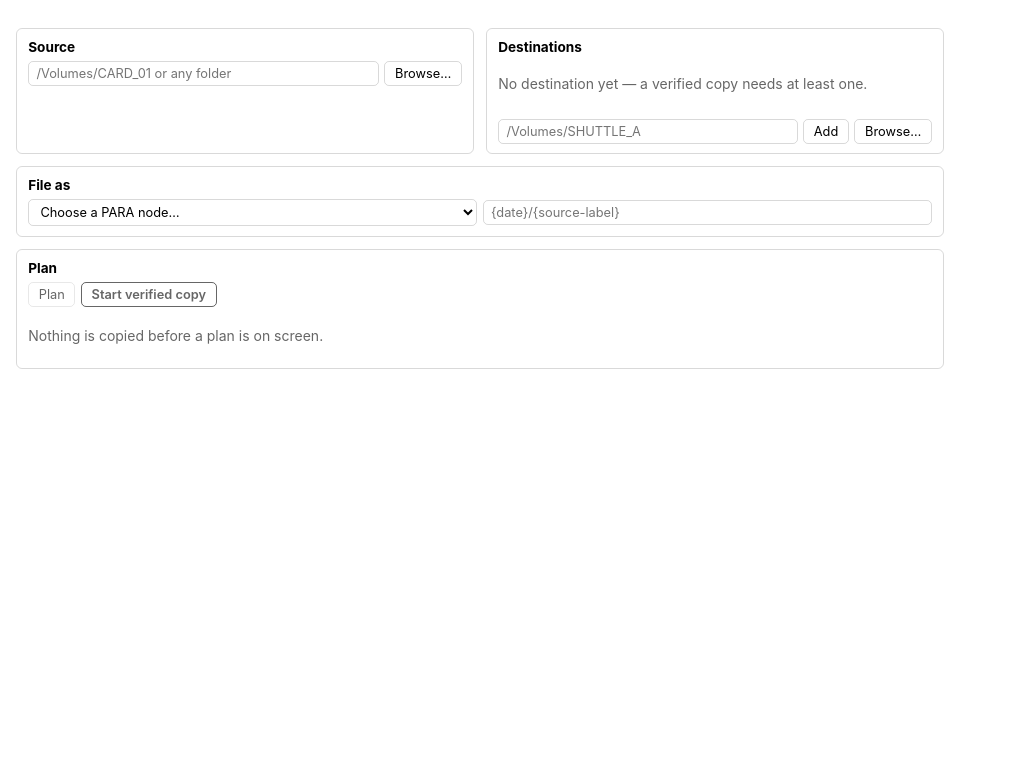
the completion card names the MHL generation, the failures and the rejects
Click the button with aria-label "Browse for source" at [423, 74], box [384,61,462,86]
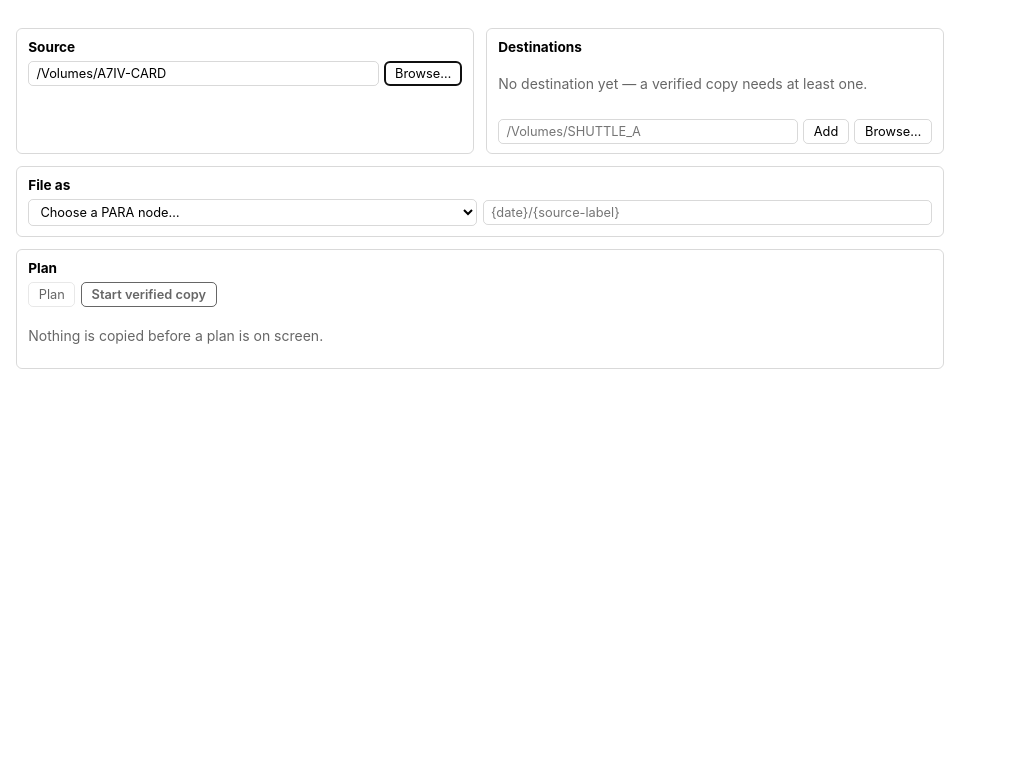
Now the field named "Source path" holds "/Volumes/A7IV-CARD", box [28,61,379,86]
Click the button with aria-label "Browse for destination" at [893, 131], box [854,119,932,144]
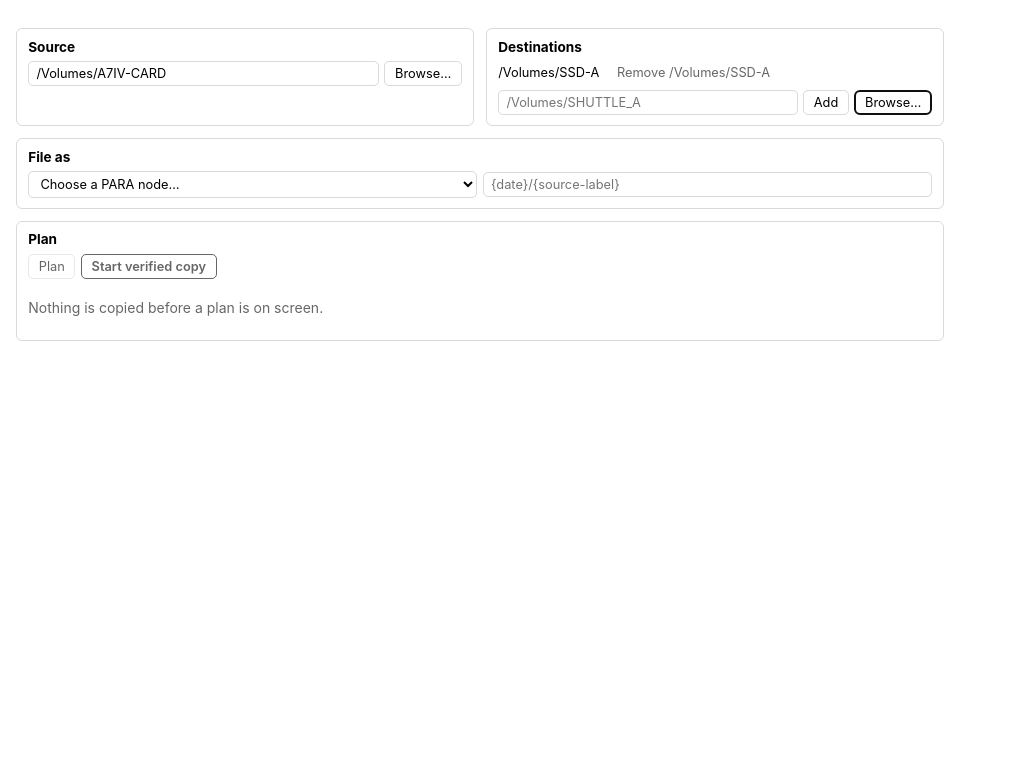
Now the text "/Volumes/SSD-A" is shown, box [498,65,599,80]
Select "project/client-x" in the dropdown named "PARA node" at [253, 184], box [28,171,477,198]
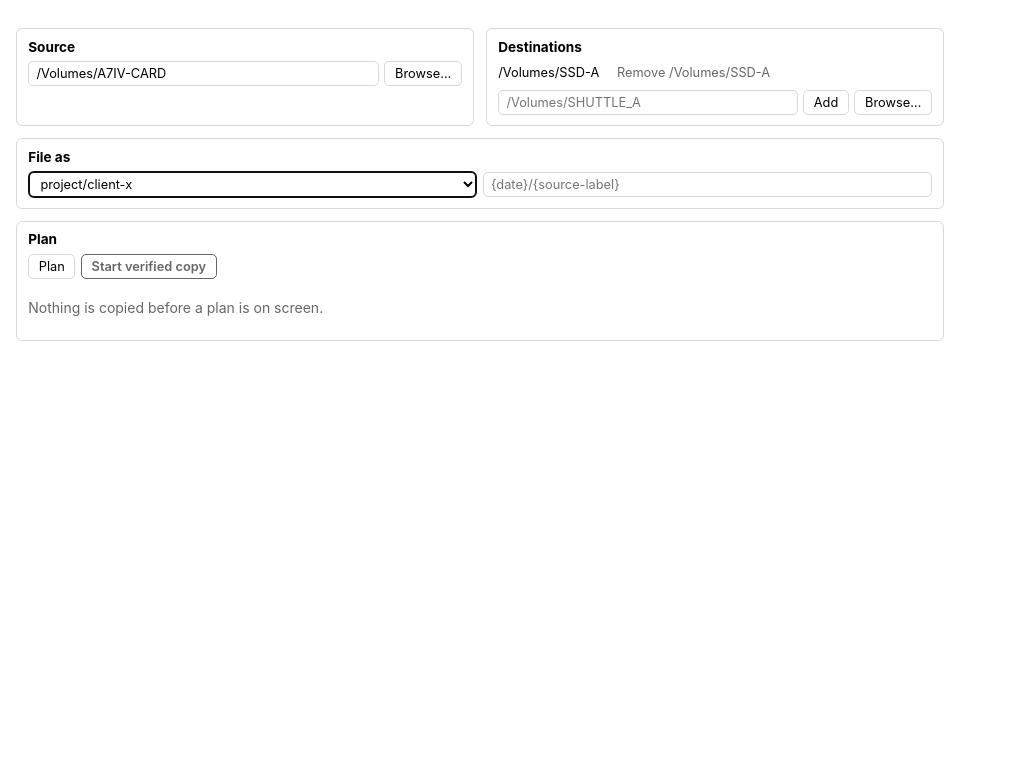
Click the button "Plan" at [52, 266], box [28,254,75,278]
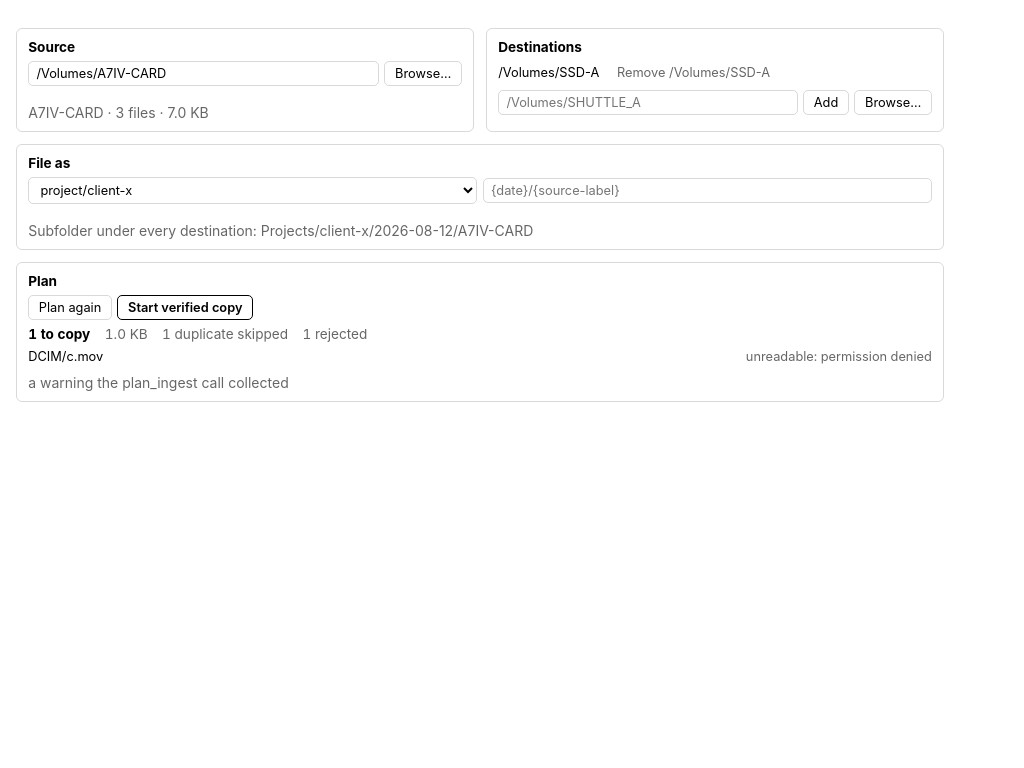
Now the text "1 to copy" is shown, box [28,326,90,342]
Click the button "Start verified copy" at [185, 307], box [118,295,253,320]
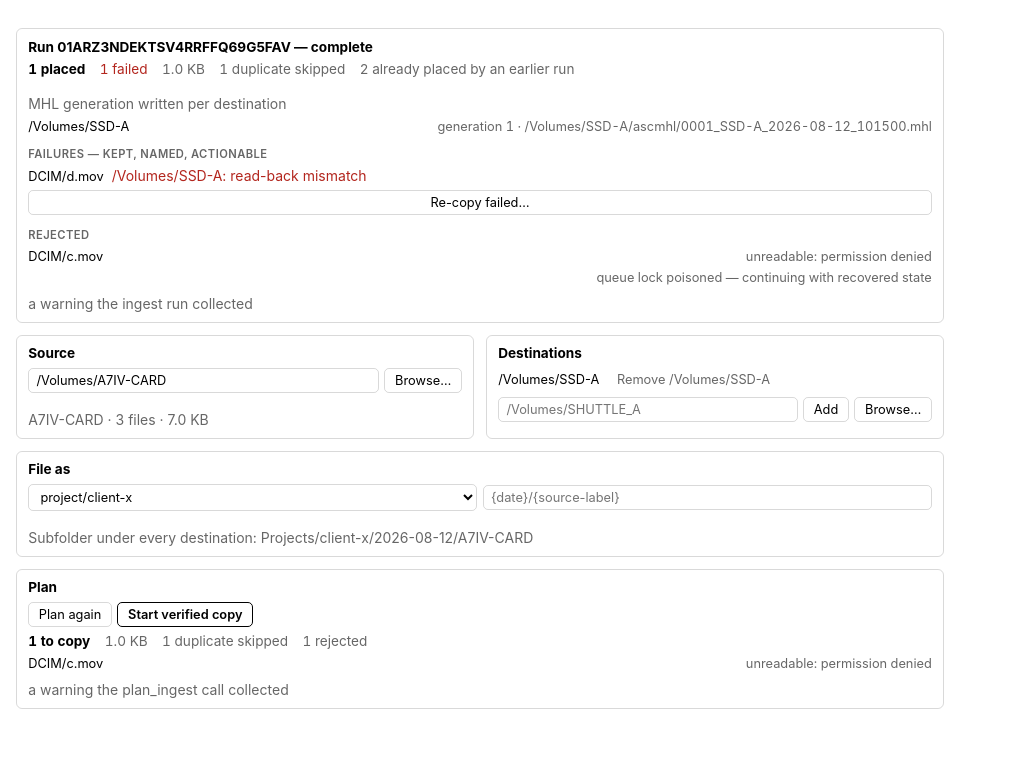
Now the element named "Completed run" shows "MHL generation written per destination", box [28,95,286,112]
Now the list named "MHL generations" shows "generation 1", box [437,119,932,134]
Now the list named "Failed files" shows "DCIM/d.mov", box [28,169,104,184]
